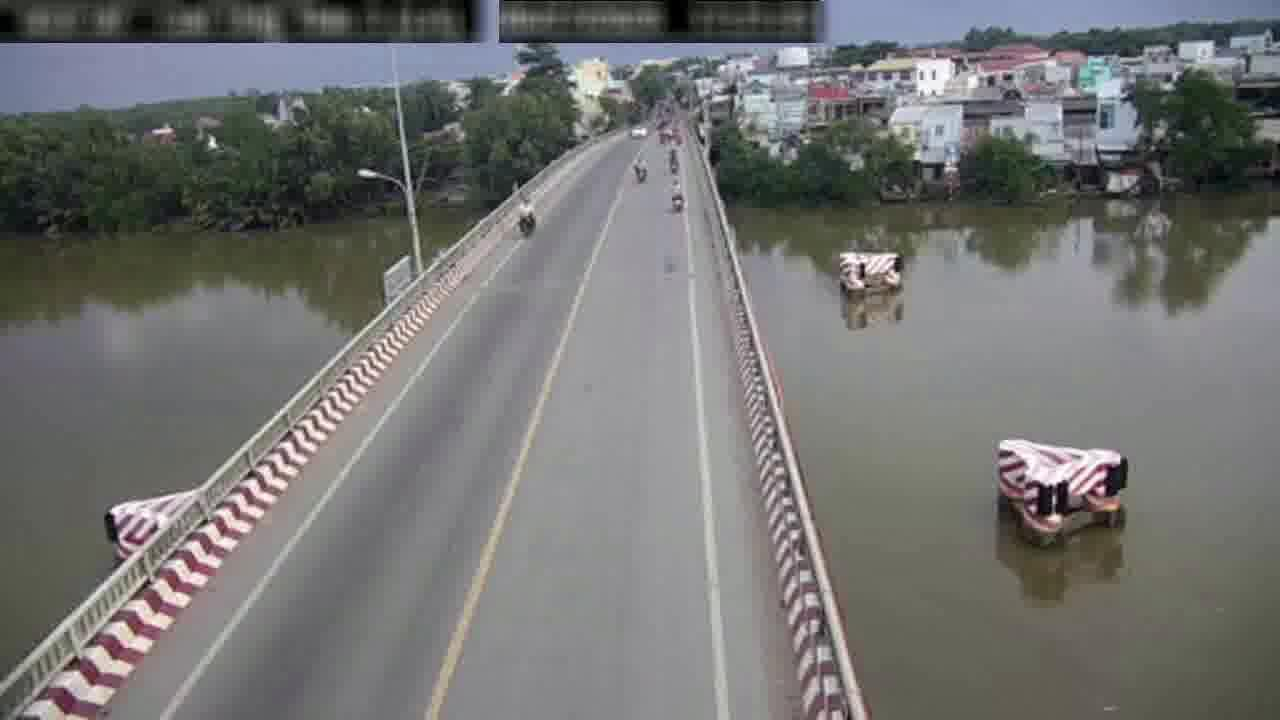motorbike: (514, 193, 533, 235), (629, 150, 650, 184), (668, 177, 687, 212), (665, 143, 678, 169)
